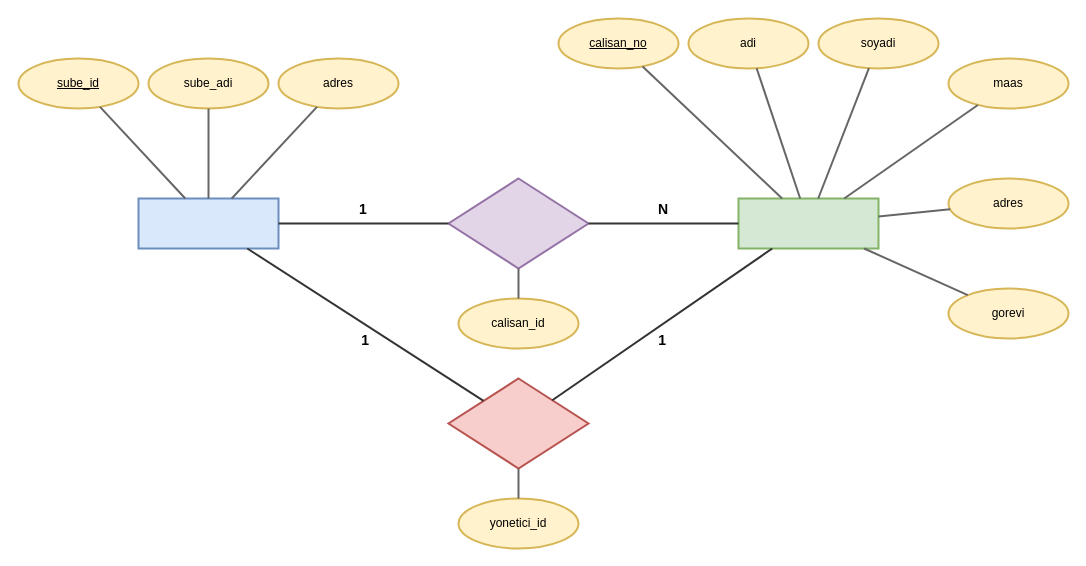
Image size: 1086x566. Some labels were removed from this diagram. Here are the shapes that lost their labels. From the top down, the centre of each, then its label:
At point (208, 223): "SUBE".
At point (518, 223): "CALISIR".
At point (808, 223): "CALISAN".
At point (518, 423): "YONETIR".
